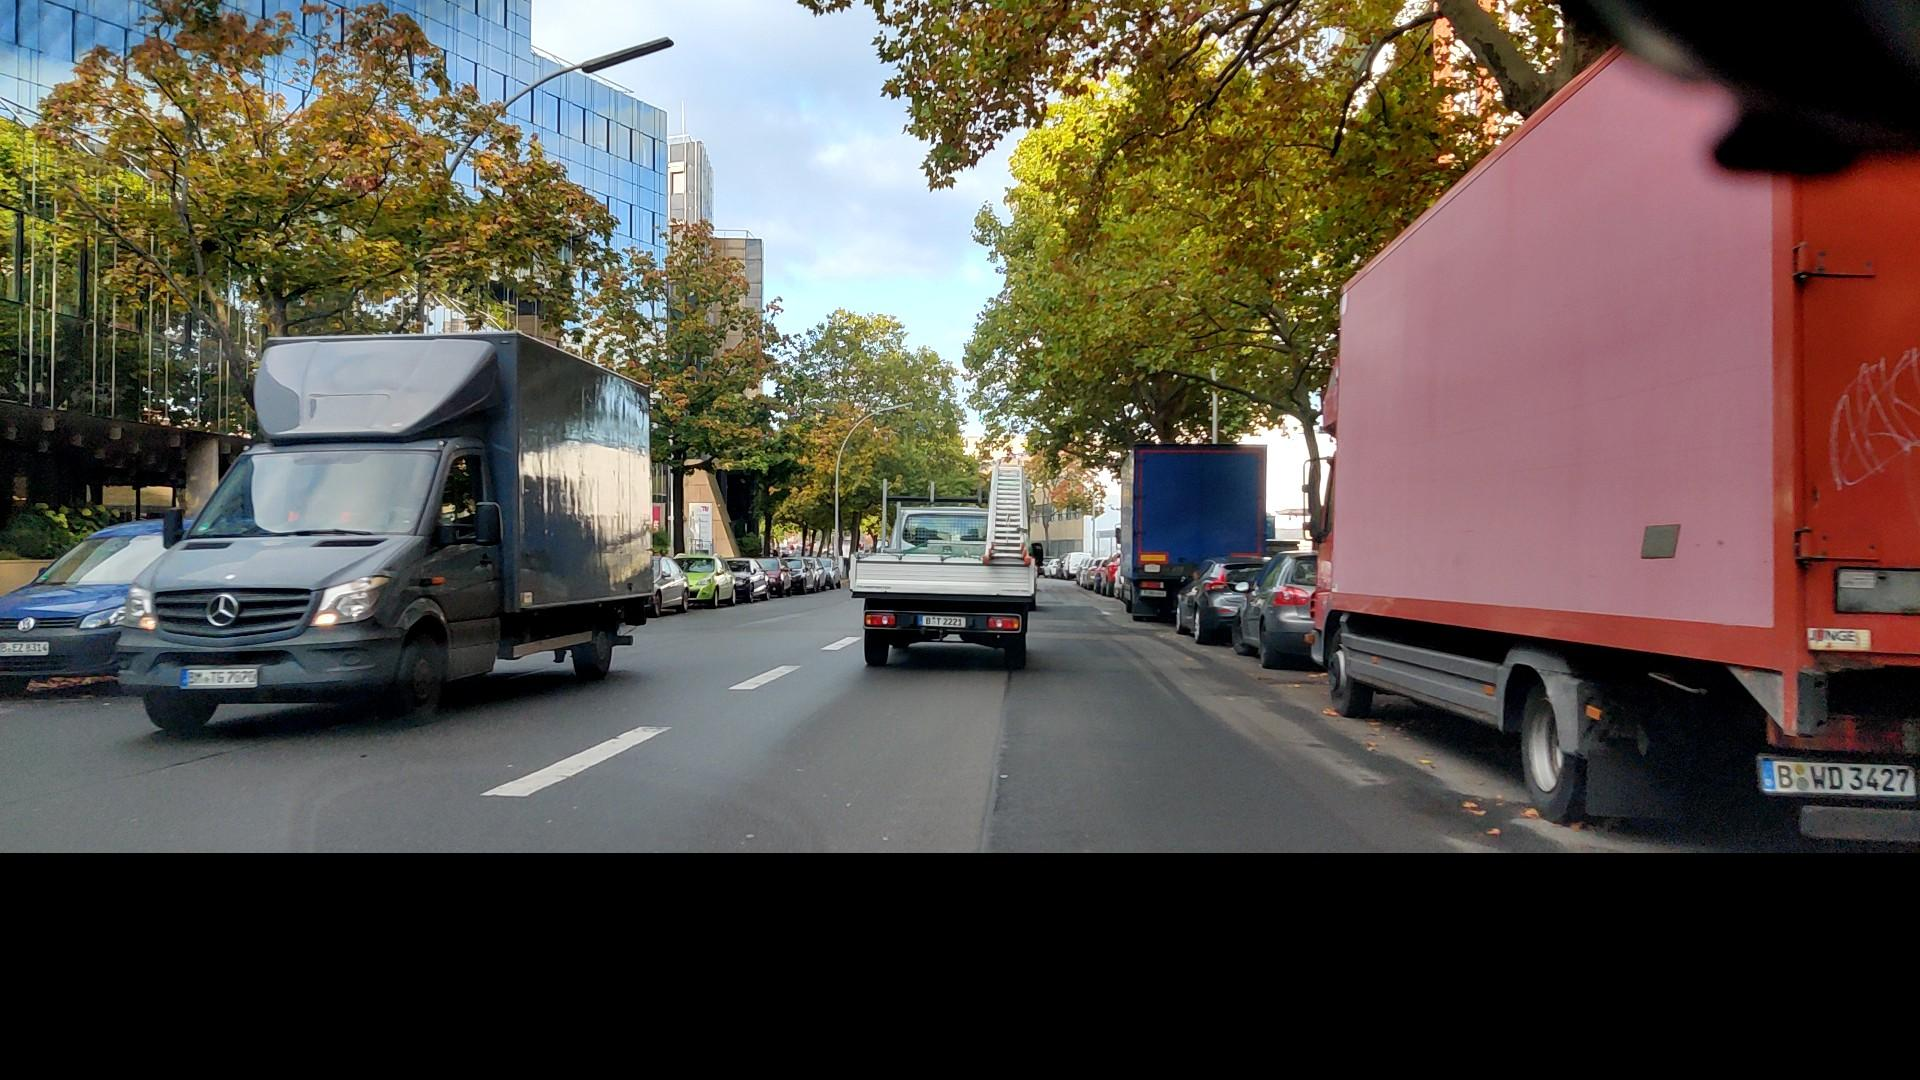Vehicle registration plate: (1759, 756, 1917, 801), (181, 669, 258, 686), (916, 615, 968, 629), (1, 642, 49, 657), (1138, 589, 1167, 598)
